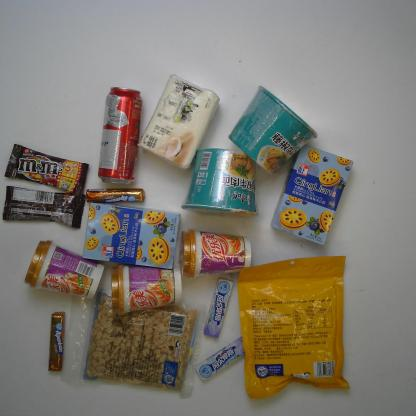Alcohol: (97, 86, 144, 185)
Candy: (195, 336, 245, 382), (202, 278, 233, 339), (47, 310, 67, 372), (86, 188, 146, 202)
Chocolate: (4, 143, 90, 198), (2, 185, 86, 229)
Dessert: (270, 145, 355, 246), (82, 202, 181, 270)
Dried Fruit: (236, 255, 352, 400), (59, 290, 209, 400)
Instant Drink: (24, 240, 106, 300), (178, 228, 253, 280), (110, 264, 183, 316)
Instant Noodles: (228, 84, 318, 175), (180, 148, 259, 218)
Tissue: (136, 74, 221, 170)
